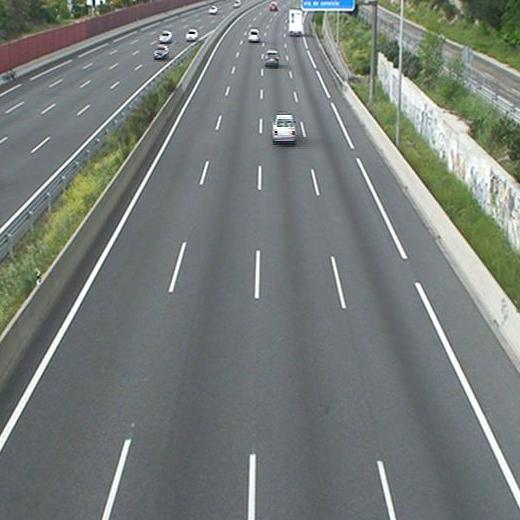car: (272, 115, 295, 140), (264, 51, 279, 66), (247, 29, 261, 42), (269, 2, 277, 11)
small-truck: (287, 9, 303, 36)
